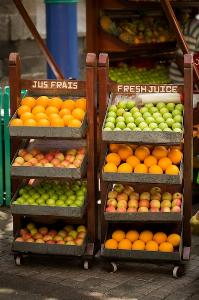apple: (104, 96, 186, 136), (98, 183, 188, 214), (10, 178, 92, 212), (10, 219, 90, 253), (5, 143, 91, 172)
orange: (11, 87, 88, 131), (98, 142, 188, 178), (102, 218, 188, 254)
